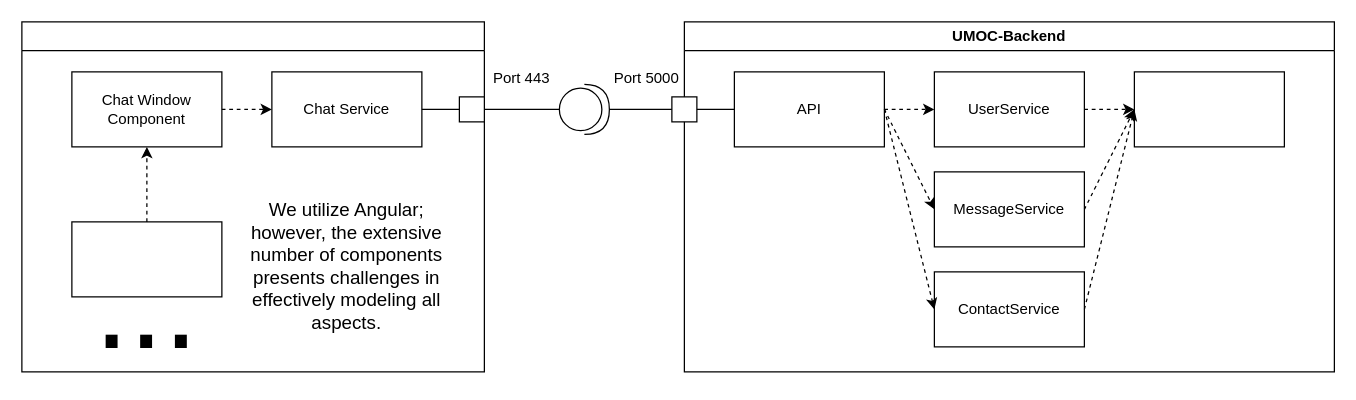
Some shapes in this 1356 by 400 pixel diagram are drawn without their labels. The box of each missing label's shape, as (x1, y1, x2, y2) in pixels:
Message Component: (71, 221, 222, 297)
SQLite: (1133, 71, 1284, 147)
UMOC-Frontend: (21, 21, 484, 372)
